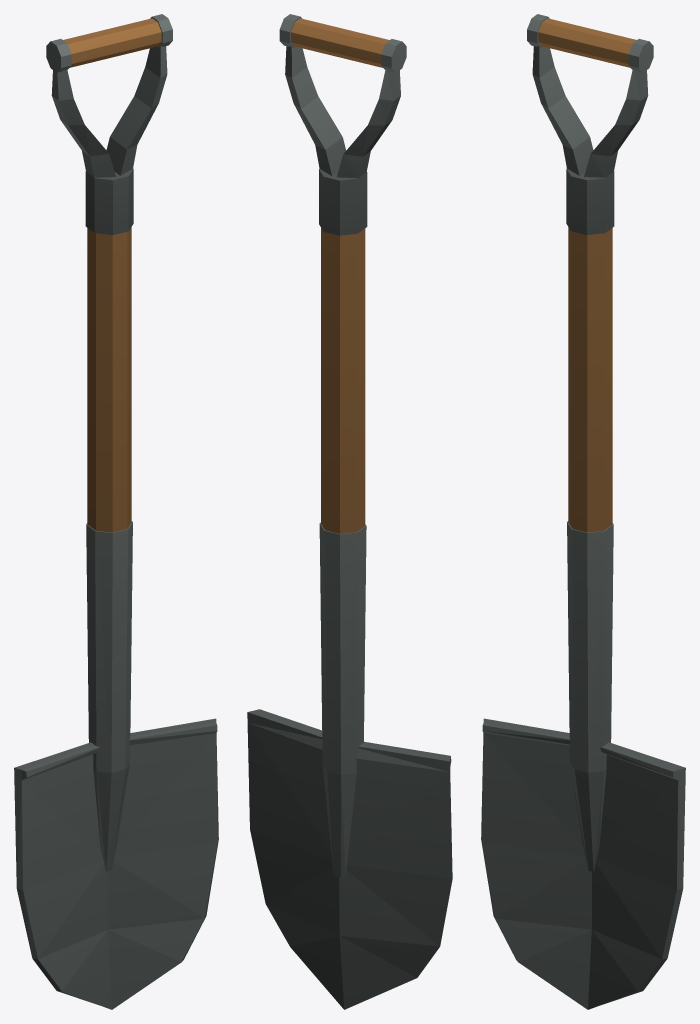
The model's file is Tool_Shovel_01.obj.
3 renders of one model, left to right at view 1: azimuth 30°, elevation 25°; view 2: azimuth 150°, elevation 25°; view 3: azimuth 330°, elevation 25°, orthographic.
Visible parts, largest first — view 1: Tool_Shovel_01; view 2: Tool_Shovel_01; view 3: Tool_Shovel_01.
Boxes of the visible parts, left/top/right/bottom form: Tool_Shovel_01: left=14, top=14, right=218, bottom=1009; Tool_Shovel_01: left=247, top=14, right=452, bottom=1009; Tool_Shovel_01: left=481, top=14, right=685, bottom=1009.
Bounding box in the file's own units: 0.2228 × 1.03 × 0.0454.
Materials: 1 (1 with a texture image).
